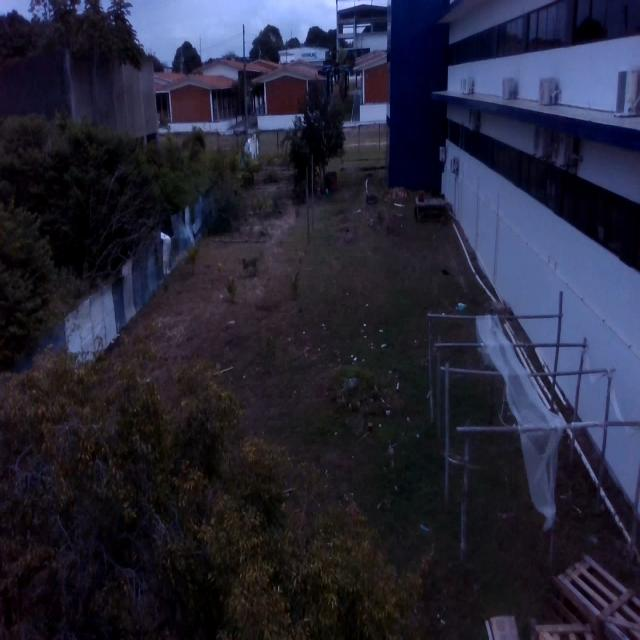-uav-: (307, 52, 365, 104)
